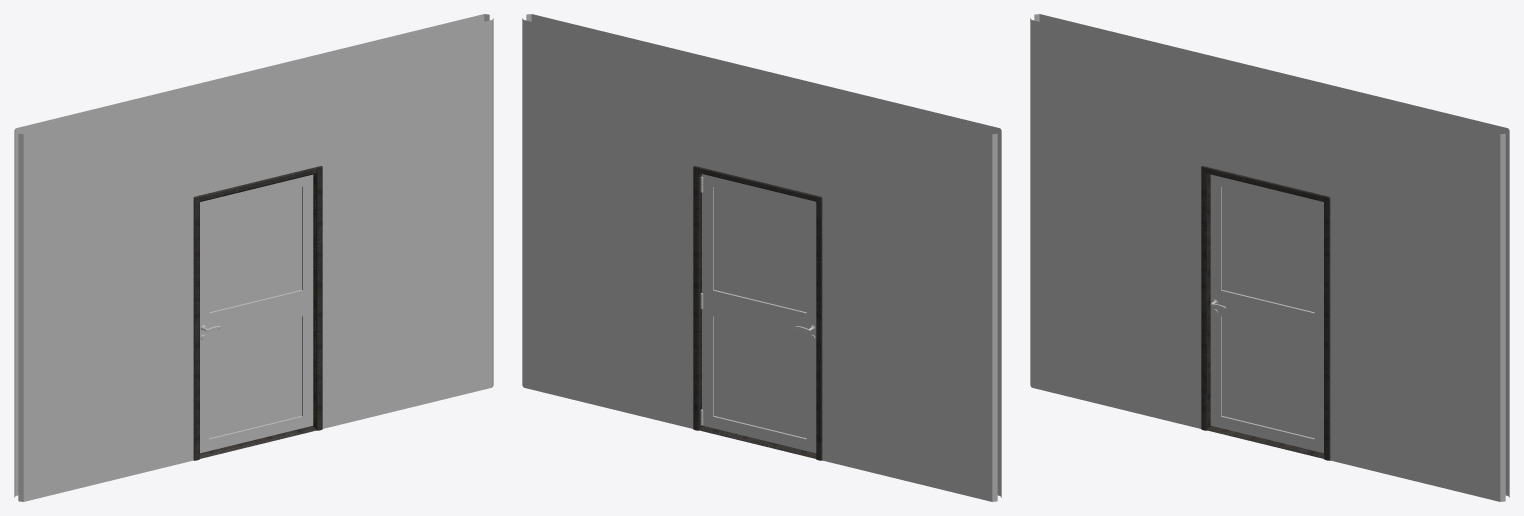
File: doorway_4_plain.fbx
3 renders of one model, left to right at view 1: azimuth 30°, elevation 25°; view 2: azimuth 150°, elevation 25°; view 3: azimuth 330°, elevation 25°, orthographic.
Parts seen in each view (by area): view 1: doorway_4_plain, door_8; view 2: doorway_4_plain, door_8; view 3: doorway_4_plain, door_8.
Part boxes in pixels (x1,y1,x2,y2): doorway_4_plain: (14, 14, 493, 501); door_8: (200, 174, 313, 453); doorway_4_plain: (522, 14, 1001, 501); door_8: (700, 174, 816, 453); doorway_4_plain: (1030, 14, 1509, 501); door_8: (1210, 174, 1323, 453).
Size of the model in its own units: 4.06 by 0.18 by 3.
